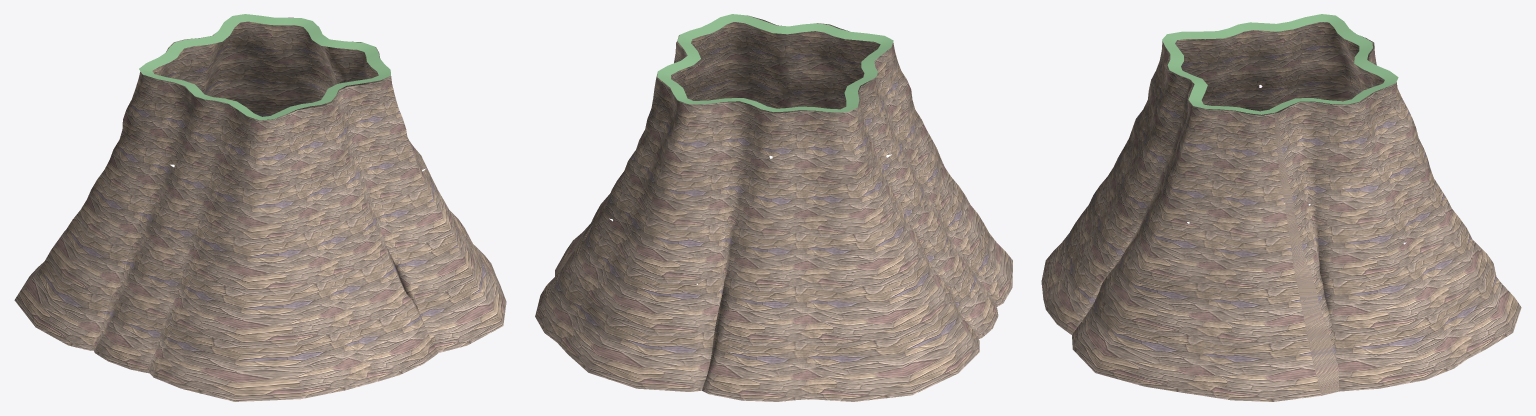
Rendered from CliffWall_stack_13.glb.
3 views of the same model, side by side, from view 1: azimuth 30°, elevation 25°; view 2: azimuth 150°, elevation 25°; view 3: azimuth 270°, elevation 25° (orthographic). The views are drawn at different scales.
Parts seen in each view (by area): view 1: CliffWall_stack_13-rock0, CliffWall_stack_13-lip0; view 2: CliffWall_stack_13-rock0, CliffWall_stack_13-lip0; view 3: CliffWall_stack_13-rock0, CliffWall_stack_13-lip0.
Part boxes in pixels (x1=…): CliffWall_stack_13-rock0: x1=14, y1=17, x2=506, y2=401; CliffWall_stack_13-lip0: x1=139, y1=14, x2=390, y2=120; CliffWall_stack_13-rock0: x1=535, y1=16, x2=1012, y2=401; CliffWall_stack_13-lip0: x1=657, y1=14, x2=893, y2=112; CliffWall_stack_13-rock0: x1=1041, y1=22, x2=1521, y2=401; CliffWall_stack_13-lip0: x1=1162, y1=14, x2=1398, y2=114.
Size of the model in its own units: 312 by 168 by 311.
Materials: 4 (1 with a texture image).
